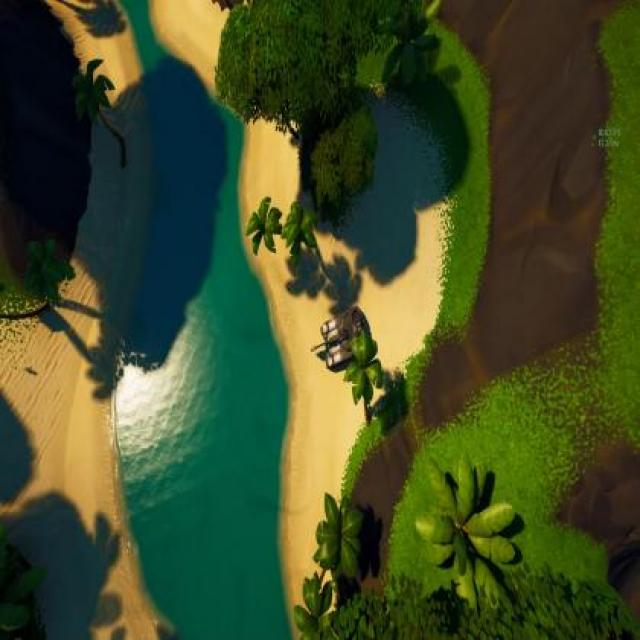tank: (309, 305, 371, 376)
